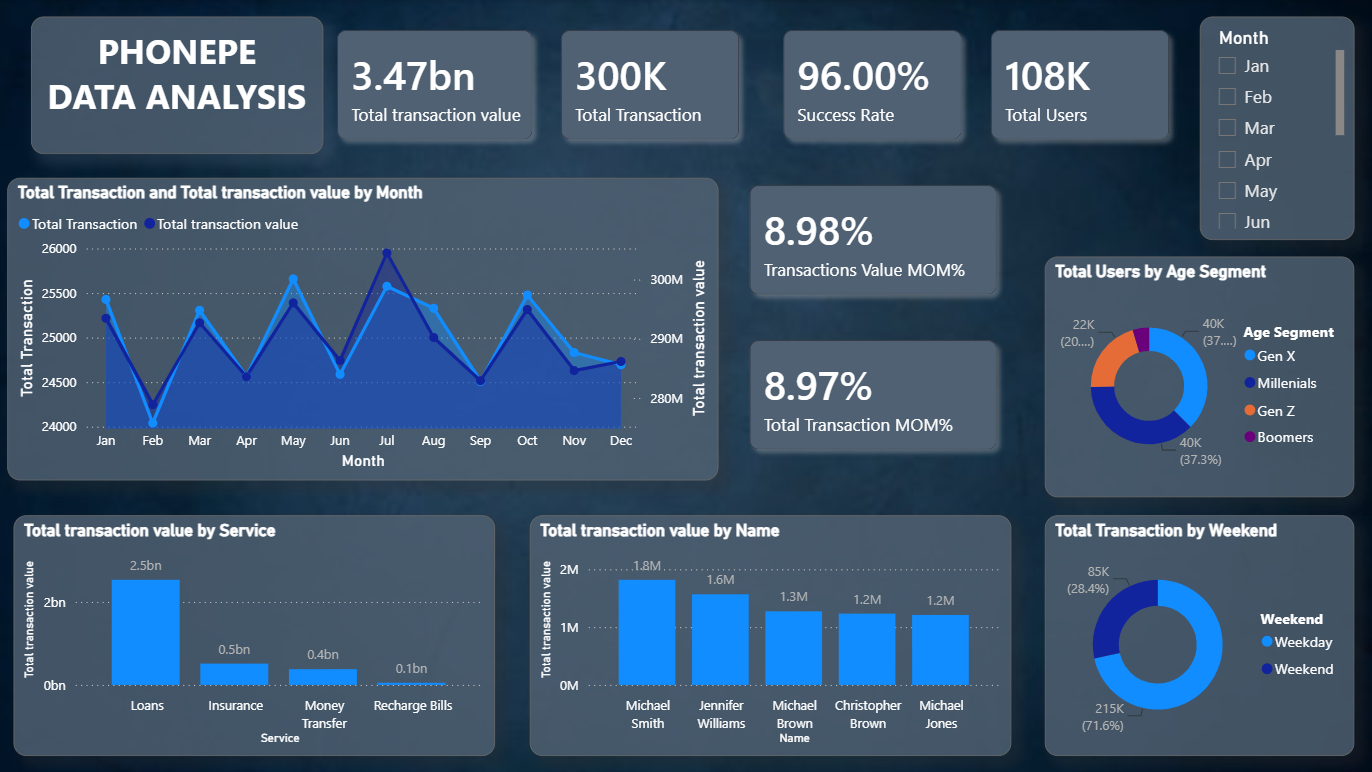

Layout of this report page (visuals, bound fields, positions):
{"tool":"powerbi","page":{"name":"Page 1","canvas":[1280,720],"ordinal":0},"visuals":[{"type":"cardVisual","fields":{"Data":["Measures (2).Total transaction value"]},"box":[288,0,240,160],"z":0},{"type":"cardVisual","fields":{"Data":["Measures (2).Total Transaction"]},"box":[496,0,224,160],"z":1000},{"type":"cardVisual","fields":{"Data":["Measures (2).Success Rate"]},"box":[704,0,224,160],"z":2000},{"type":"cardVisual","fields":{"Data":["Measures (2).Total Users"]},"box":[896,0,224,160],"z":3000},{"type":"slicer","fields":{"Values":["Date_Table.Month"]},"box":[1120,16,144,208],"z":4000},{"type":"cardVisual","fields":{"Data":["Measures (2).Transactions Value MOM%"]},"box":[672,144,288,160],"z":5000},{"type":"cardVisual","fields":{"Data":["Measures (2).Total Transaction MOM%"]},"box":[672,288,288,160],"z":6000},{"type":"lineChart","fields":{"Category":["Date_Table.Month"],"Y":["Measures (2).Total Transaction"],"Y2":["Measures (2).Total transaction value"]},"box":[9.9,165.9,661.5,281.3],"z":7000},{"type":"columnChart","fields":{"Category":["All_Transactions.Service"],"Y":["Measures (2).Total transaction value"]},"box":[16,480,448,224],"z":8000},{"type":"donutChart","fields":{"Category":["All_Users.Age Segment"],"Y":["Measures (2).Total Users"]},"box":[976,240,288,224],"z":9000},{"type":"donutChart","fields":{"Category":["Date_Table.Weekend"],"Y":["Measures (2).Total Transaction"]},"box":[976,480,288,224],"z":10000},{"type":"columnChart","fields":{"Category":["All_Users.Name"],"Y":["Measures (2).Total transaction value"]},"box":[496,480,448,224],"z":11000},{"type":"textbox","box":[32,16,272,128],"z":12000}]}

Visuals, with their boxes in screenshot pixels (x1, y1, x2, y2), scaled from the page's 1280x720 canvas onto the 1372x772 screenshot:
cardVisual - Measures (2).Total transaction value: (309, 0, 566, 172)
cardVisual - Measures (2).Total Transaction: (532, 0, 772, 172)
cardVisual - Measures (2).Success Rate: (755, 0, 995, 172)
cardVisual - Measures (2).Total Users: (960, 0, 1200, 172)
slicer - Date_Table.Month: (1200, 17, 1355, 240)
cardVisual - Measures (2).Transactions Value MOM%: (720, 154, 1029, 326)
cardVisual - Measures (2).Total Transaction MOM%: (720, 309, 1029, 480)
lineChart - Date_Table.Month x Measures (2).Total Transaction: (11, 178, 720, 479)
columnChart - All_Transactions.Service x Measures (2).Total transaction value: (17, 515, 497, 755)
donutChart - All_Users.Age Segment x Measures (2).Total Users: (1046, 257, 1355, 498)
donutChart - Date_Table.Weekend x Measures (2).Total Transaction: (1046, 515, 1355, 755)
columnChart - All_Users.Name x Measures (2).Total transaction value: (532, 515, 1012, 755)
textbox: (34, 17, 326, 154)
